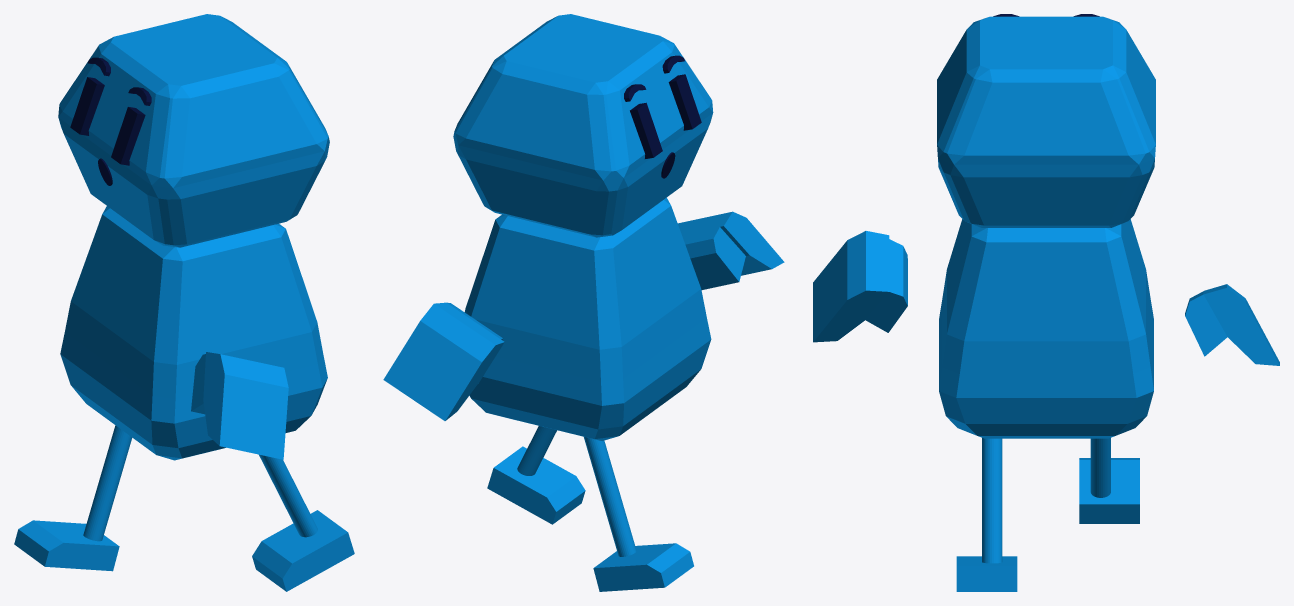
File: player_blue_walk2.gltf
3 views of the same model, side by side, from view 1: azimuth 30°, elevation 25°; view 2: azimuth 150°, elevation 25°; view 3: azimuth 270°, elevation 25° (orthographic). The views are drawn at different scales.
Parts seen in each view (by area): view 1: head.018, body.018, hand right.015, foot right.018, foot left.018, leg left.018, leg right.018, Cube.077, Cube.076; view 2: body.018, head.018, hand left.015, hand right.015, foot right.018, foot left.018, leg left.018, Cube.076, Cube.077, leg right.018; view 3: body.018, head.018, hand right.015, hand left.015, foot left.018, leg right.018, foot right.018, leg left.018.
Boxes of the visible parts, x1,y1,x2,y2 form: head.018: [58, 14, 329, 247]; body.018: [60, 206, 327, 460]; hand right.015: [191, 352, 288, 459]; foot right.018: [252, 510, 354, 591]; foot left.018: [14, 520, 119, 571]; leg left.018: [83, 425, 132, 541]; leg right.018: [259, 454, 317, 537]; Cube.077: [70, 77, 104, 135]; Cube.076: [111, 107, 145, 165]; body.018: [464, 197, 711, 440]; head.018: [453, 14, 713, 237]; hand left.015: [383, 302, 504, 420]; hand right.015: [677, 211, 784, 289]; foot right.018: [487, 446, 585, 524]; foot left.018: [593, 543, 693, 591]; leg left.018: [584, 437, 636, 556]; Cube.076: [668, 74, 701, 130]; Cube.077: [630, 102, 662, 158]; leg right.018: [517, 426, 556, 475]; body.018: [939, 219, 1153, 438]; head.018: [937, 16, 1155, 227]; hand right.015: [813, 231, 907, 342]; hand left.015: [1185, 284, 1279, 365]; foot left.018: [1079, 458, 1139, 523]; leg right.018: [982, 438, 1002, 563]; foot right.018: [956, 556, 1017, 591]; leg left.018: [1090, 438, 1110, 497].
Bounding box in the file's own units: 2.4 × 4.8 × 3.95.
